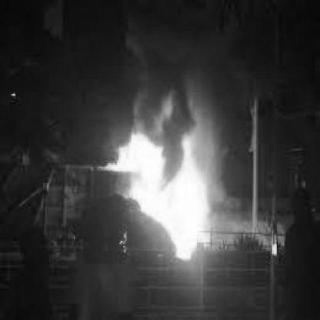Fire: (106, 123, 220, 261)
